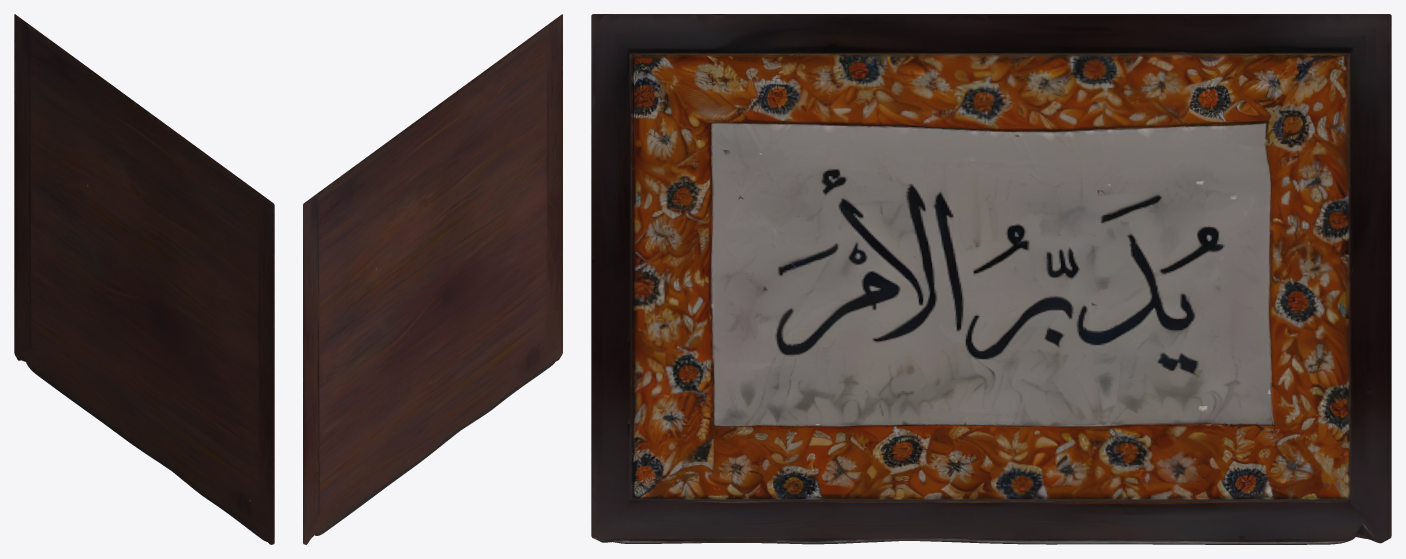
File: wall_panel_6.glb
The picture shows the model from 3 angles, left to right: view 1: azimuth 30°, elevation 25°; view 2: azimuth 150°, elevation 25°; view 3: azimuth 270°, elevation 25°; orthographic projection. The views are drawn at different scales.
Visible parts, largest first — view 1: tripo_node_69c34ab5-5a5a-4e1a-b5aa-0734b97dc543.001; view 2: tripo_node_69c34ab5-5a5a-4e1a-b5aa-0734b97dc543.001; view 3: tripo_node_69c34ab5-5a5a-4e1a-b5aa-0734b97dc543.001.
Part boxes in pixels (<box>): tripo_node_69c34ab5-5a5a-4e1a-b5aa-0734b97dc543.001: <box>14,14,274,544</box>; tripo_node_69c34ab5-5a5a-4e1a-b5aa-0734b97dc543.001: <box>303,14,562,544</box>; tripo_node_69c34ab5-5a5a-4e1a-b5aa-0734b97dc543.001: <box>591,14,1391,544</box>.
Size of the model in its own units: 0 by 0.7322 by 1.
1 material, 1 textured.
